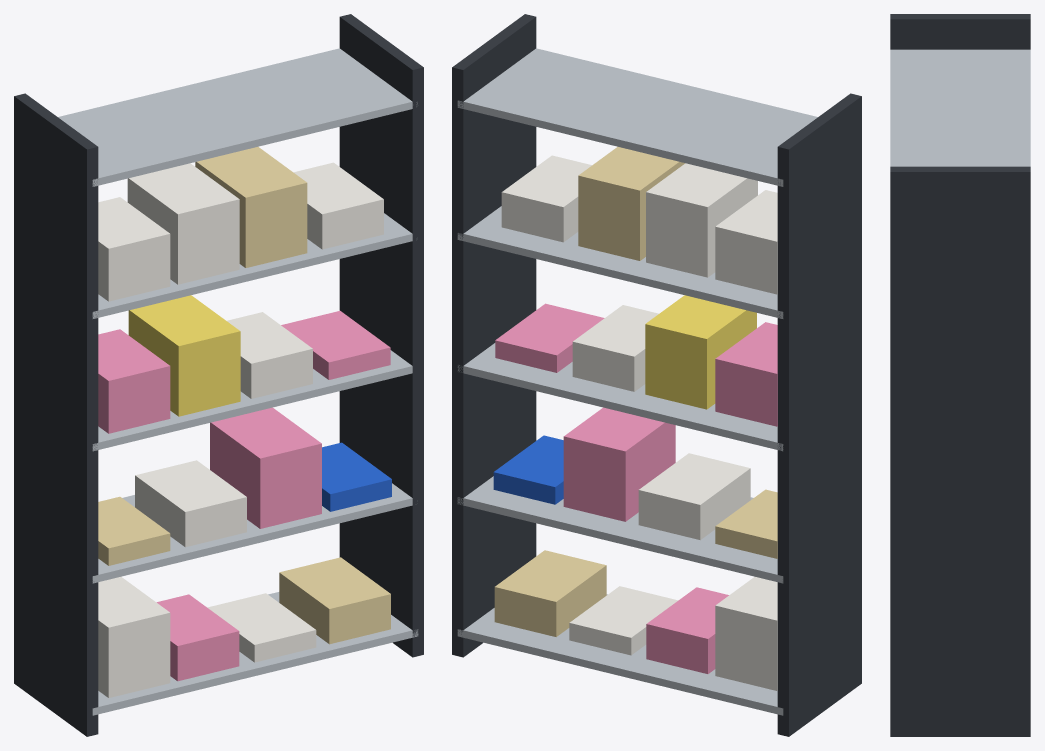
File: PaperShelf.fbx
3 renders of one model, left to right at view 1: azimuth 30°, elevation 25°; view 2: azimuth 150°, elevation 25°; view 3: azimuth 270°, elevation 25°, orthographic. The views are drawn at different scales.
Parts seen in each view (by area): view 1: PaperShelfBody; view 2: PaperShelfBody; view 3: PaperShelfBody.
Boxes of the visible parts, <box> form: PaperShelfBody: <box>14,14,423,736</box>; PaperShelfBody: <box>452,14,861,736</box>; PaperShelfBody: <box>890,14,1030,736</box>.
Size of the model in its own units: 1.2 by 2 by 0.45.
